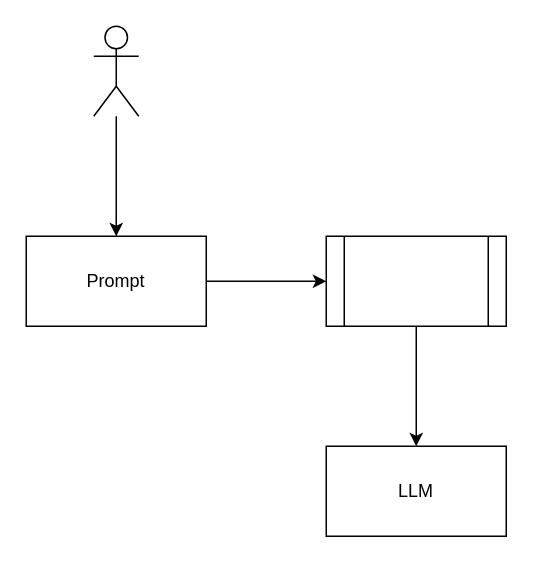
Some shapes in this 533 by 563 pixel diagram are drawn without their labels. Here are the shapes that lost their labels. From the top down, the box of each, then its label:
(92, 25, 139, 116): Actor
(325, 235, 506, 326): GPT
